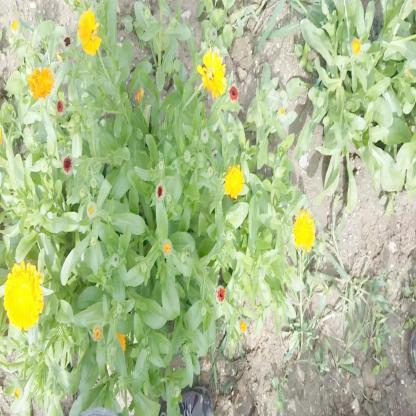marigold: (5, 262, 42, 330), (197, 49, 224, 96), (76, 11, 102, 57), (293, 210, 315, 252), (224, 166, 245, 200), (31, 70, 53, 97)
